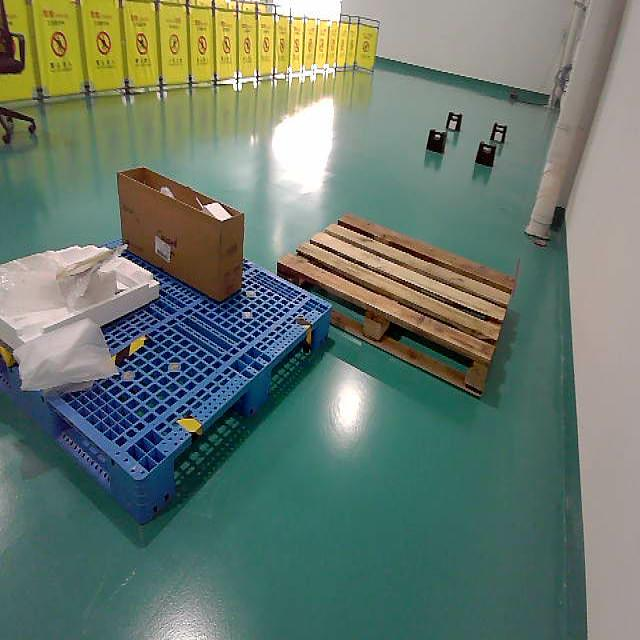euro: (278, 215, 515, 393)
